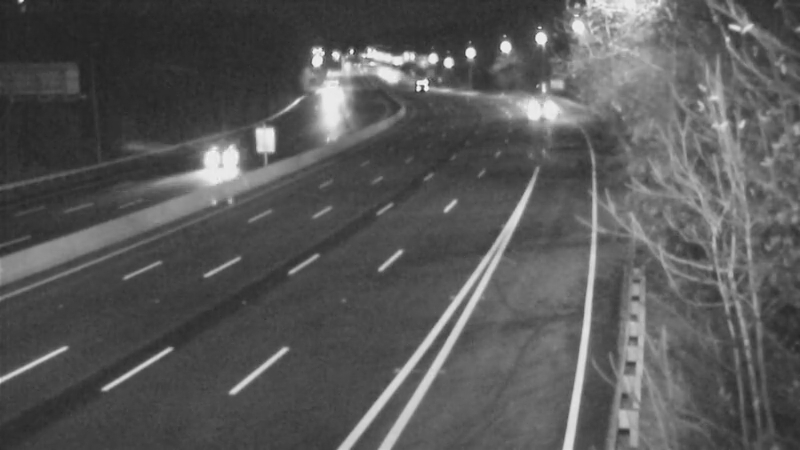vehicle: (178, 113, 258, 193), (394, 60, 444, 110), (364, 52, 414, 102), (509, 88, 559, 138)
